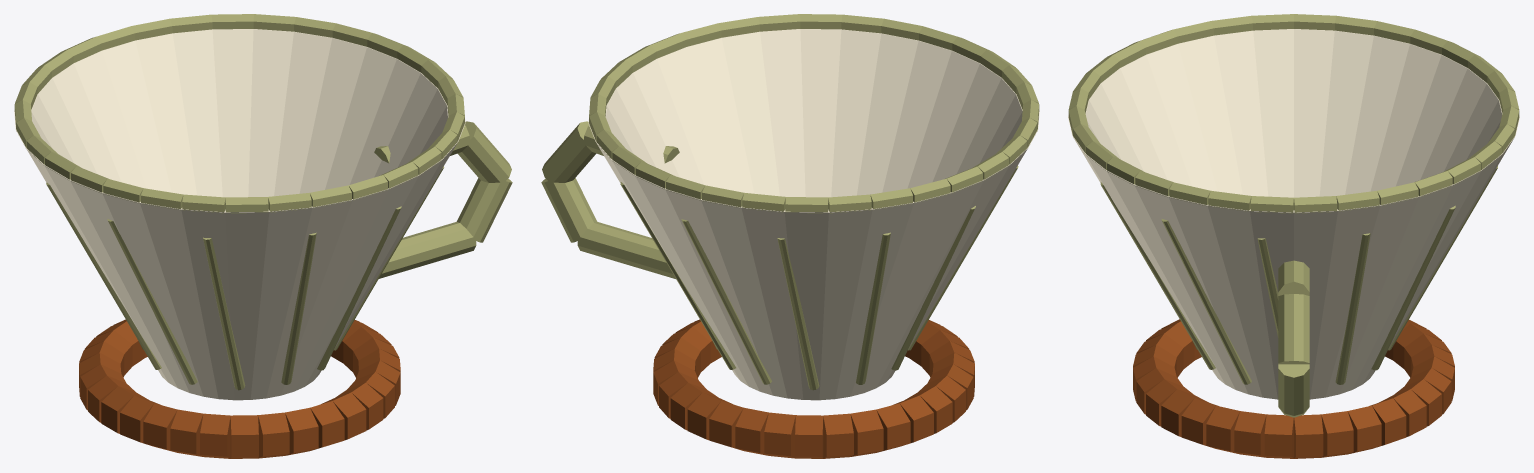
Rendered from dripper.glb.
3 renders of one model, left to right at view 1: azimuth 30°, elevation 25°; view 2: azimuth 150°, elevation 25°; view 3: azimuth 270°, elevation 25°, orthographic.
Parts seen in each view (by area): view 1: conical wall, handle3, handle2, handle1, flute40, flute30, flute50, support foot9, support foot11, support foot12, support foot10, support foot8 (+40 smaller); view 2: conical wall, handle3, handle2, handle1, flute80, flute70, flute90, support foot22, support foot20, support foot19, support foot21, support foot23 (+40 smaller); view 3: conical wall, handle1, handle2, flute110, flute10, support foot1, support foot30, support foot0, support foot31, support foot2, support foot29, flute100 (+42 smaller).
Part boxes in pixels (bbox=[...]): conical wall: bbox=[14, 29, 465, 400]; handle3: bbox=[379, 221, 476, 278]; handle2: bbox=[457, 178, 512, 242]; handle1: bbox=[457, 121, 511, 183]; flute40: bbox=[203, 237, 245, 390]; flute30: bbox=[281, 232, 316, 384]; flute50: bbox=[107, 219, 197, 384]; support foot9: bbox=[258, 412, 289, 458]; support foot11: bbox=[200, 413, 230, 458]; support foot12: bbox=[170, 409, 203, 456]; support foot10: bbox=[230, 415, 258, 458]; support foot8: bbox=[285, 407, 318, 455]; conical wall: bbox=[588, 29, 1039, 400]; handle3: bbox=[577, 221, 675, 278]; handle2: bbox=[541, 178, 596, 242]; handle1: bbox=[542, 121, 596, 183]; flute80: bbox=[777, 238, 819, 390]; flute70: bbox=[856, 232, 890, 384]; flute90: bbox=[681, 219, 771, 384]; support foot22: bbox=[764, 412, 795, 458]; support foot20: bbox=[823, 413, 853, 458]; support foot19: bbox=[850, 409, 883, 456]; support foot21: bbox=[795, 415, 823, 458]; support foot23: bbox=[735, 407, 768, 455]; conical wall: bbox=[1068, 29, 1519, 399]; handle1: bbox=[1278, 294, 1309, 364]; handle2: bbox=[1278, 364, 1309, 415]; flute110: bbox=[1335, 233, 1370, 384]; flute10: bbox=[1161, 219, 1251, 384]; support foot1: bbox=[1234, 411, 1266, 457]; support foot30: bbox=[1321, 411, 1353, 457]; support foot0: bbox=[1264, 414, 1293, 458]; support foot31: bbox=[1294, 414, 1323, 458]; support foot2: bbox=[1206, 405, 1239, 454]; support foot29: bbox=[1348, 405, 1381, 454]; flute100: bbox=[1371, 205, 1455, 370].
Size of the model in its own units: 1.57 by 0.947 by 1.32.
